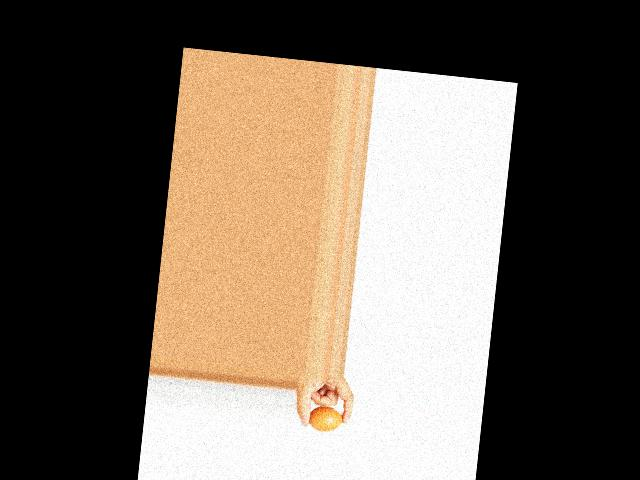egg: (307, 404, 344, 434)
